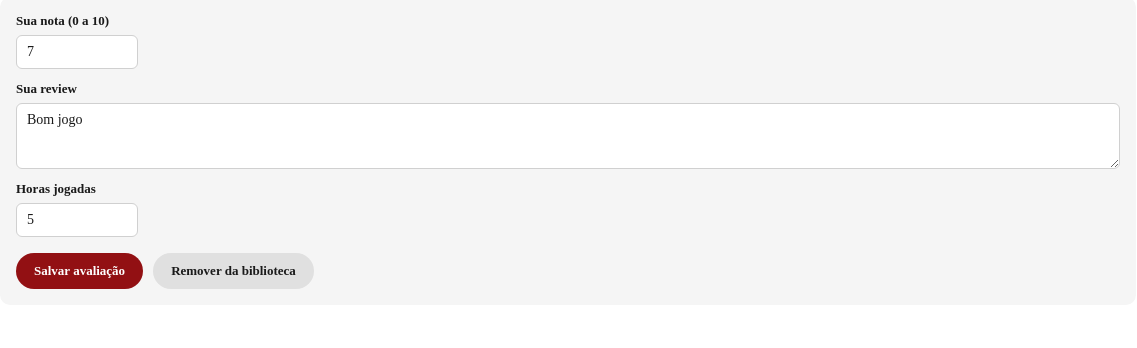
Test: Edição da biblioteca pessoal › exibe mensagem padrão quando a remoção falha
Click the button "Remover da biblioteca": (233, 271) [153,253,314,289]
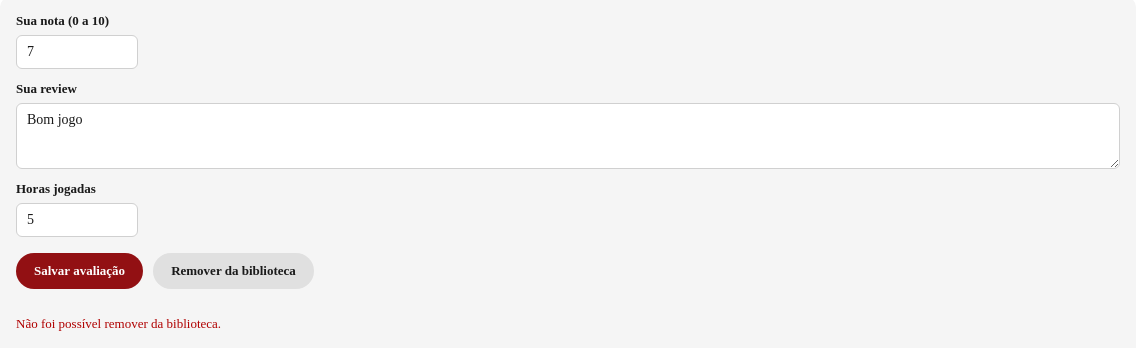
Check: the text "Não foi possível remover da biblioteca." is shown, box [16,316,221,331]
